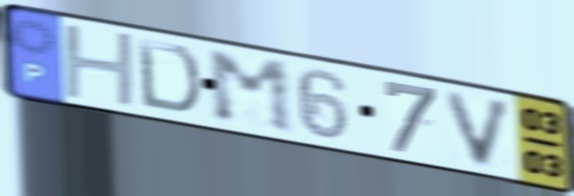6: (294, 66, 352, 143)
7: (381, 78, 440, 156)
D: (134, 34, 204, 117)
H: (59, 23, 141, 110)
M: (203, 48, 299, 138)
V: (441, 88, 519, 172)
